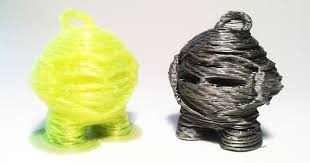3dpunderextrusion: (213, 45, 253, 75), (222, 128, 267, 154)
